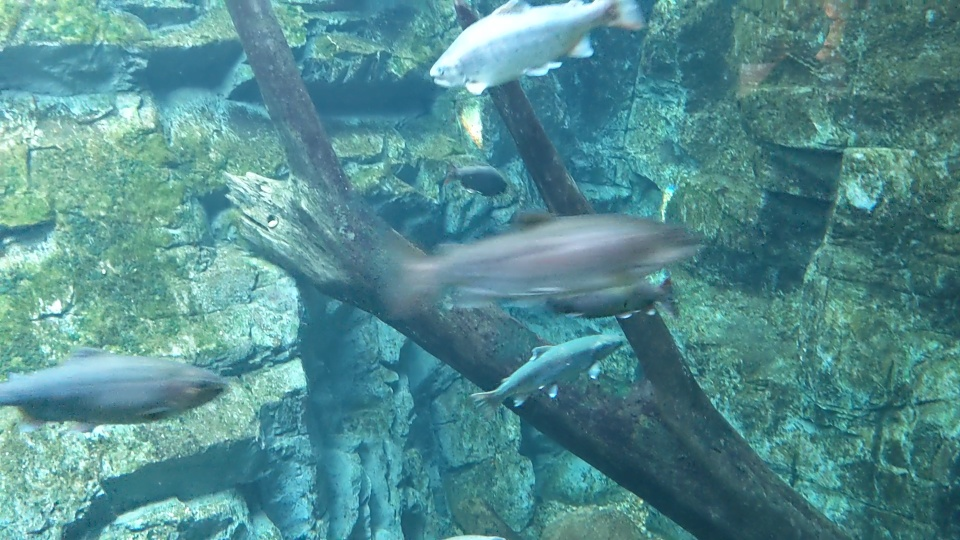Fish: (367, 210, 708, 316), (429, 0, 644, 98), (0, 354, 223, 431), (473, 329, 623, 419), (536, 277, 684, 327), (449, 162, 509, 199)
